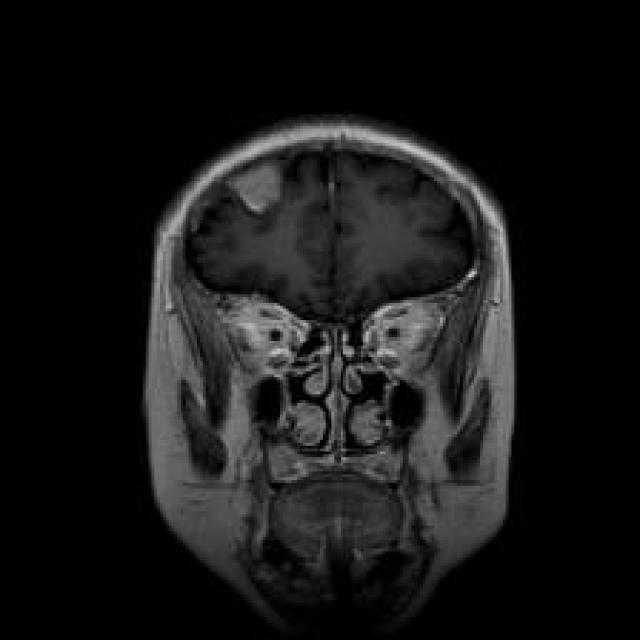meningioma_tumor: (222, 155, 298, 226)
